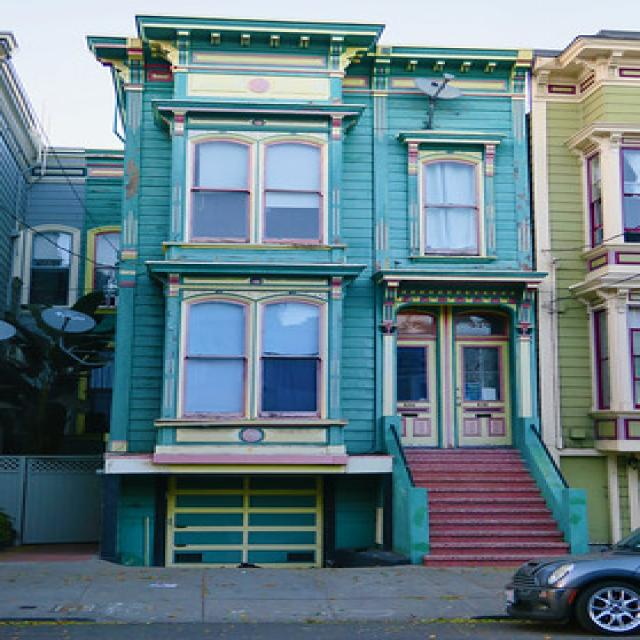Normal_building: (71, 13, 640, 568)
